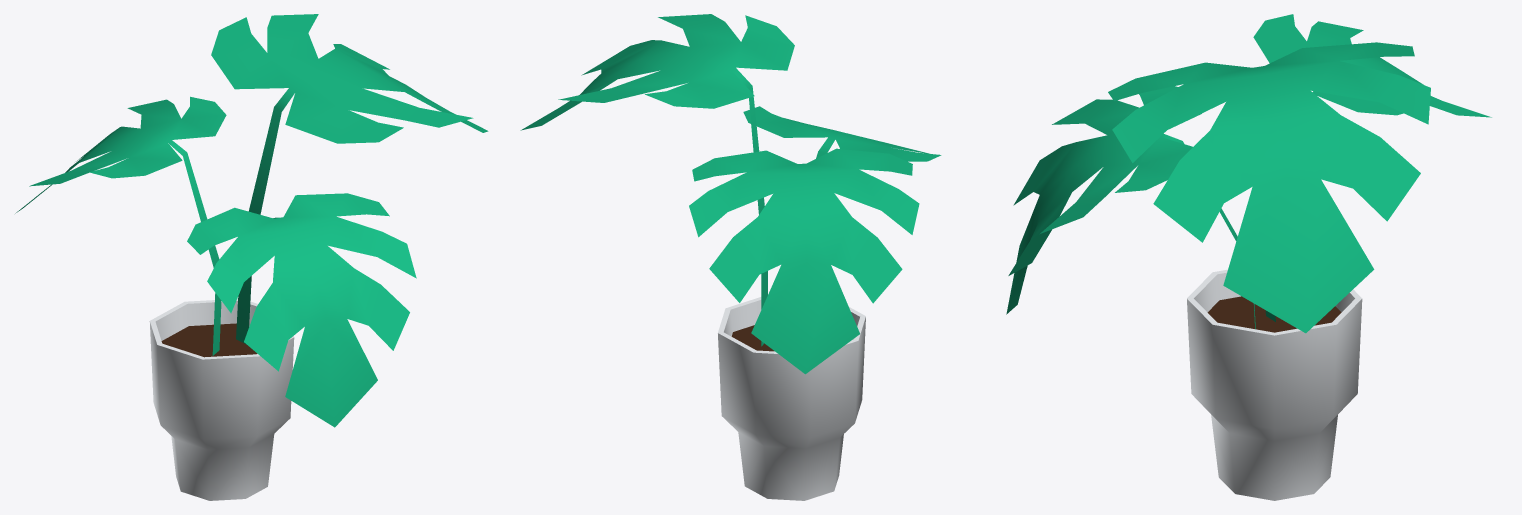
The model's file is houseplant_small.glb.
3 views of the same model, side by side, from view 1: azimuth 30°, elevation 25°; view 2: azimuth 150°, elevation 25°; view 3: azimuth 270°, elevation 25° (orthographic). The views are drawn at different scales.
Parts seen in each view (by area): view 1: Houseplant_1; view 2: Houseplant_1; view 3: Houseplant_1.
Boxes of the visible parts, <box> form: Houseplant_1: <box>15,14,488,500</box>; Houseplant_1: <box>520,14,941,500</box>; Houseplant_1: <box>1006,14,1491,500</box>.
Size of the model in its own units: 0.3002 by 0.28 by 0.271.
